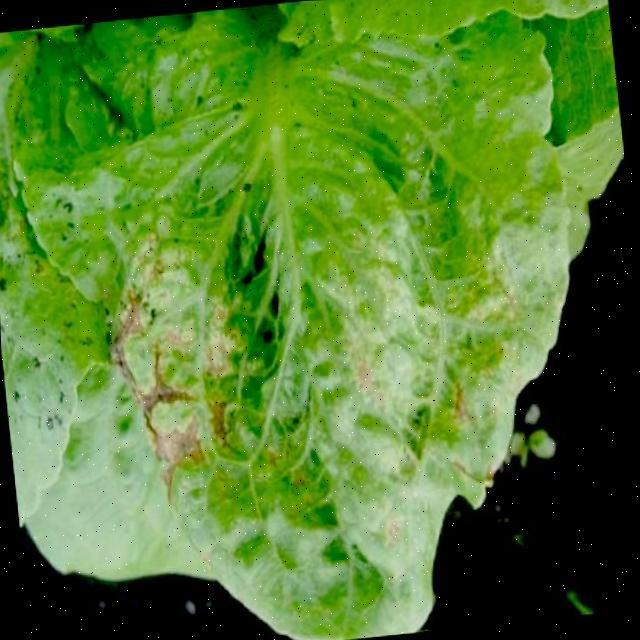Bacterial: (66, 195, 293, 520)
